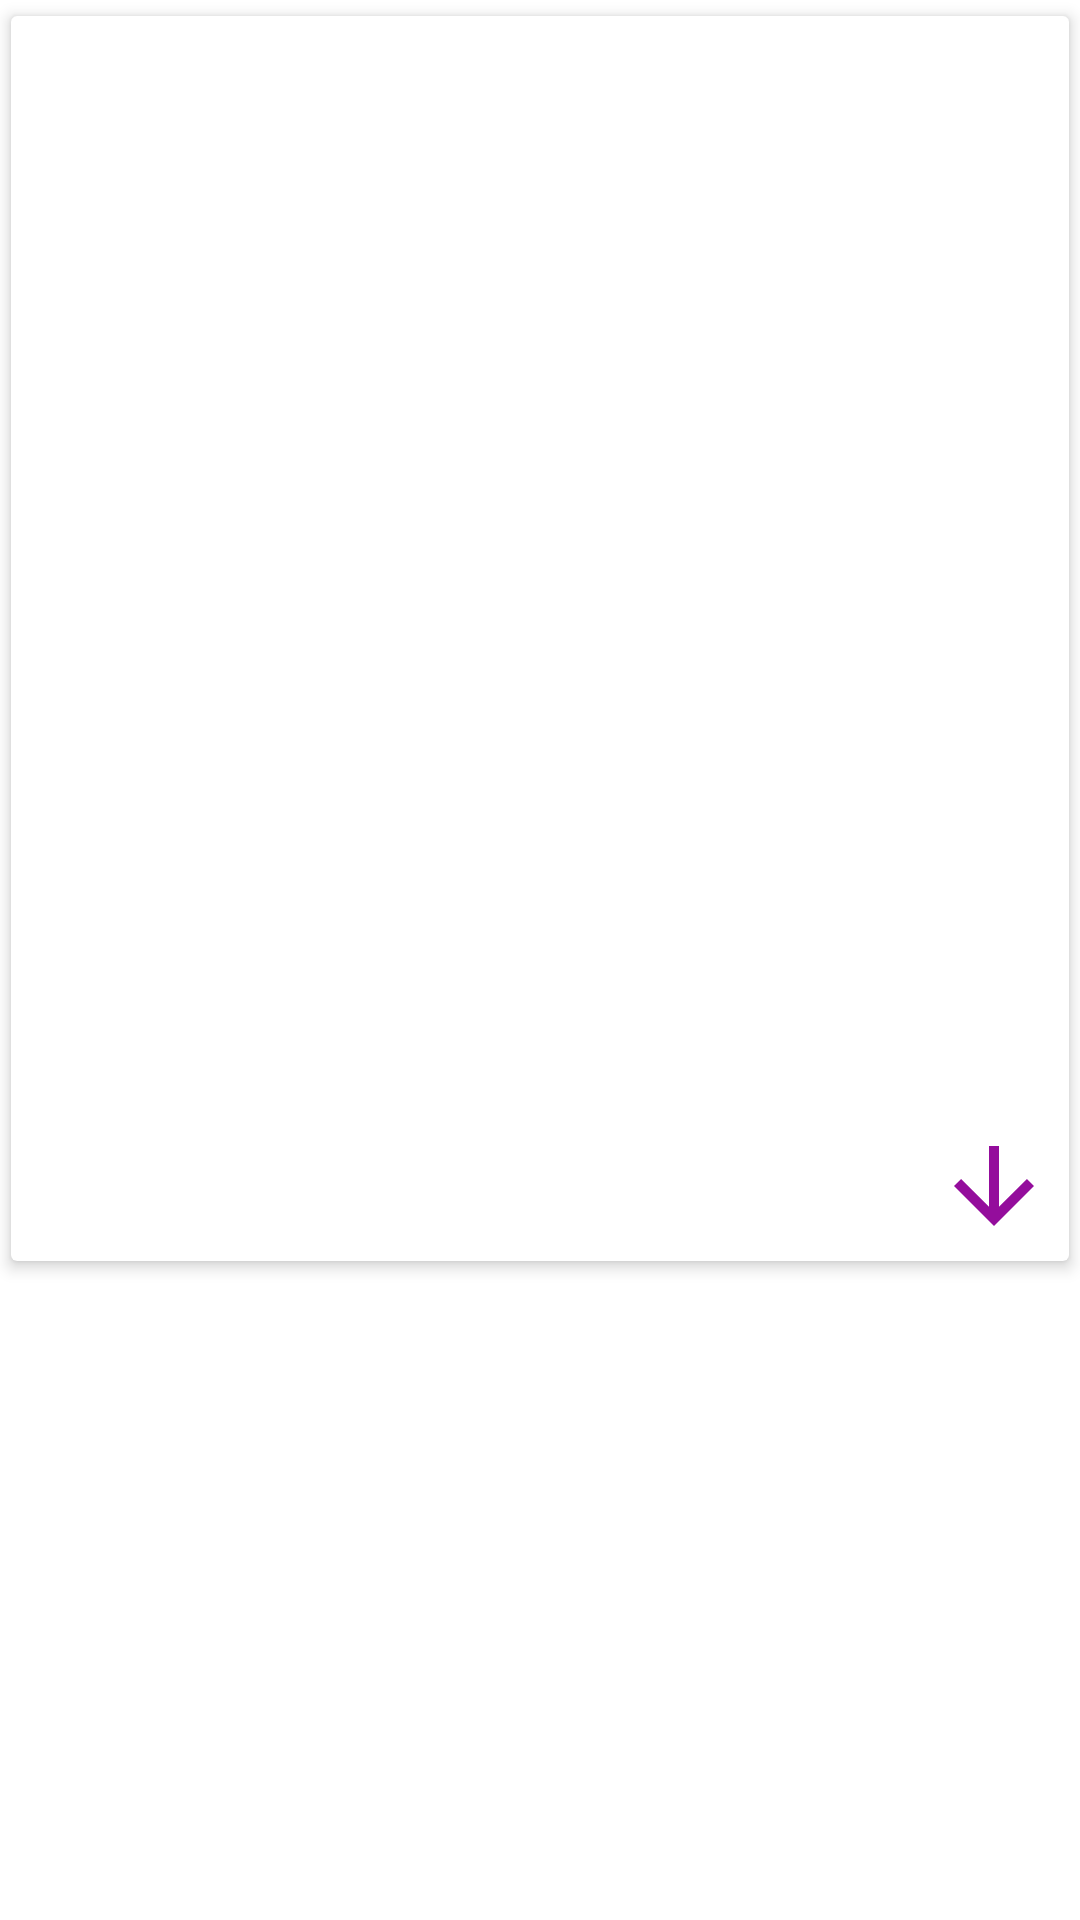

Named icons in this screenshot (1080 × 1920) and their bounding boxes, box(x1, y1, x2, y2):
arrow downward: box(954, 1146, 1034, 1226)
